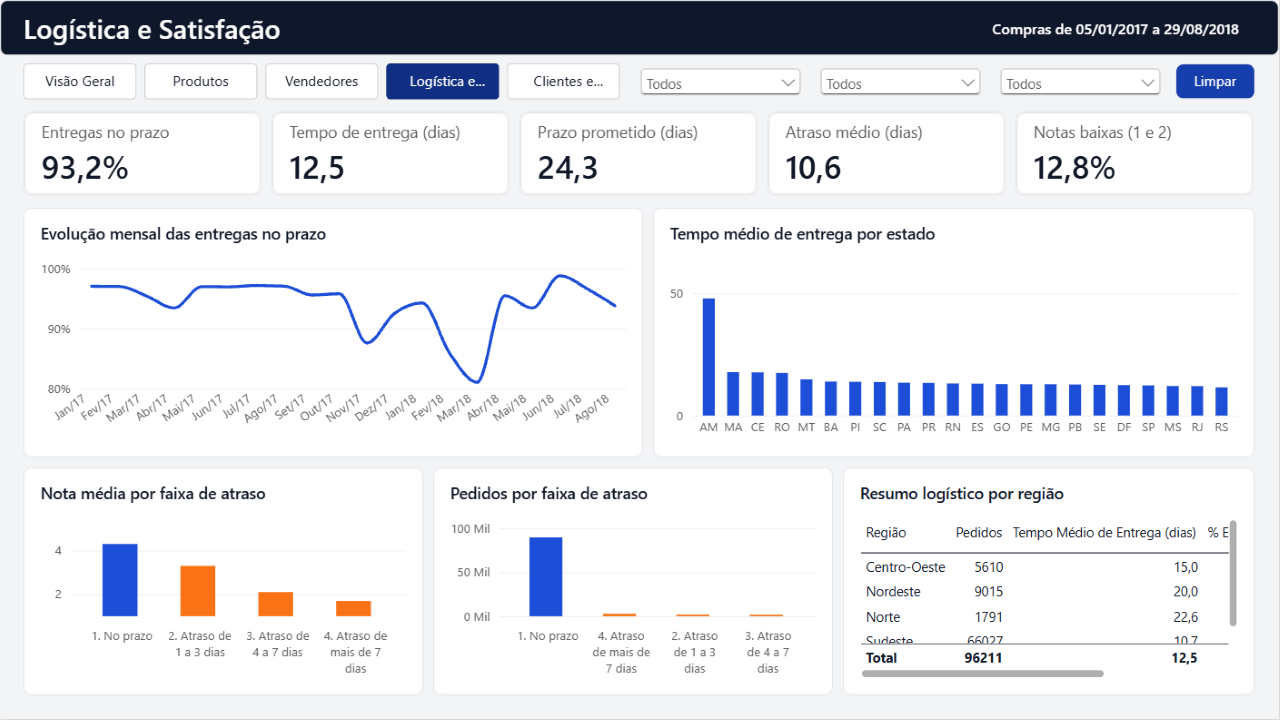

This screenshot's page, from the dashboard's own definition file:
{"tool":"powerbi","page":{"name":"Logística e Satisfação","canvas":[1280,720],"ordinal":3},"visuals":[{"type":"shape","box":[0,0,1280,56],"z":0},{"type":"cardVisual","fields":{"Data":["_Medidas.% Entregas no Prazo"]},"box":[24,112,238,84],"z":1000},{"type":"cardVisual","fields":{"Data":["_Medidas.Atraso Médio dos Atrasados (dias)"]},"box":[768,112,238,84],"z":2000},{"type":"cardVisual","fields":{"Data":["_Medidas.Prazo Médio Prometido (dias)"]},"box":[520,112,238,84],"z":3000},{"type":"cardVisual","fields":{"Data":["_Medidas.Tempo Médio de Entrega (dias)"]},"box":[272,112,238,84],"z":4000},{"type":"cardVisual","fields":{"Data":["_Medidas.% Notas Baixas (1 e 2)"]},"box":[1016,112,238,84],"z":5000},{"type":"lineChart","title":"Evolução mensal das entregas no prazo","fields":{"Category":["Dim_Calendario.Mês/Ano"],"Y":["_Medidas.% Entregas no Prazo"]},"box":[24,208,620,250],"z":6000},{"type":"clusteredColumnChart","title":"Tempo médio de entrega por estado","fields":{"Category":["Dim_Vendedor.UF"],"Y":["_Medidas.Tempo Médio de Entrega (dias)"]},"box":[654,208,602,250],"z":7000},{"type":"clusteredColumnChart","title":"Nota média por faixa de atraso","fields":{"Category":["Fato_Pedidos.Faixa de Atraso"],"Y":["_Medidas.Nota Média"]},"box":[24,468,400,228],"z":8000},{"type":"clusteredColumnChart","title":"Pedidos por faixa de atraso","fields":{"Category":["Fato_Pedidos.Faixa de Atraso"],"Y":["_Medidas.Pedidos"]},"box":[434,468,400,228],"z":9000},{"type":"tableEx","title":"Resumo logístico por região","fields":{"Values":["Dim_Cliente.Região","_Medidas.Pedidos","_Medidas.Tempo Médio de Entrega (dias)","_Medidas.% Entregas no Prazo","_Medidas.Nota Média"]},"box":[844,468,412,228],"z":10000},{"type":"textbox","box":[24,10,700,36],"z":11000},{"type":"cardVisual","fields":{"Data":["_Medidas.Período de Dados"]},"box":[860,16,396,24],"z":12000},{"type":"pageNavigator","box":[24,64,600,36],"z":13000},{"type":"slicer","title":"Ano","fields":{"Values":["Dim_Calendario.Ano"]},"box":[636,64,170,36],"z":14000},{"type":"slicer","fields":{"Values":["Dim_Cliente.Região"]},"box":[816,64,170,36],"z":15000},{"type":"slicer","fields":{"Values":["Dim_Cliente.UF"]},"box":[996,64,170,36],"z":16000},{"type":"actionButton","box":[1176,64,80,36],"z":17000}]}

Visuals, with their boxes in screenshot pixels (x1, y1, x2, y2), scaled from the page's 1280x720 canvas onto the 1280x720 screenshot:
shape: bbox=[0, 0, 1279, 56]
cardVisual - _Medidas.% Entregas no Prazo: bbox=[24, 112, 262, 196]
cardVisual - _Medidas.Atraso Médio dos Atrasados (dias): bbox=[768, 112, 1006, 196]
cardVisual - _Medidas.Prazo Médio Prometido (dias): bbox=[520, 112, 758, 196]
cardVisual - _Medidas.Tempo Médio de Entrega (dias): bbox=[272, 112, 510, 196]
cardVisual - _Medidas.% Notas Baixas (1 e 2): bbox=[1016, 112, 1254, 196]
"Evolução mensal das entregas no prazo" lineChart: bbox=[24, 208, 644, 458]
"Tempo médio de entrega por estado" clusteredColumnChart: bbox=[654, 208, 1256, 458]
"Nota média por faixa de atraso" clusteredColumnChart: bbox=[24, 468, 424, 696]
"Pedidos por faixa de atraso" clusteredColumnChart: bbox=[434, 468, 834, 696]
"Resumo logístico por região" tableEx: bbox=[844, 468, 1256, 696]
textbox: bbox=[24, 10, 724, 46]
cardVisual - _Medidas.Período de Dados: bbox=[860, 16, 1256, 40]
pageNavigator: bbox=[24, 64, 624, 100]
"Ano" slicer: bbox=[636, 64, 806, 100]
slicer - Dim_Cliente.Região: bbox=[816, 64, 986, 100]
slicer - Dim_Cliente.UF: bbox=[996, 64, 1166, 100]
actionButton: bbox=[1176, 64, 1256, 100]
